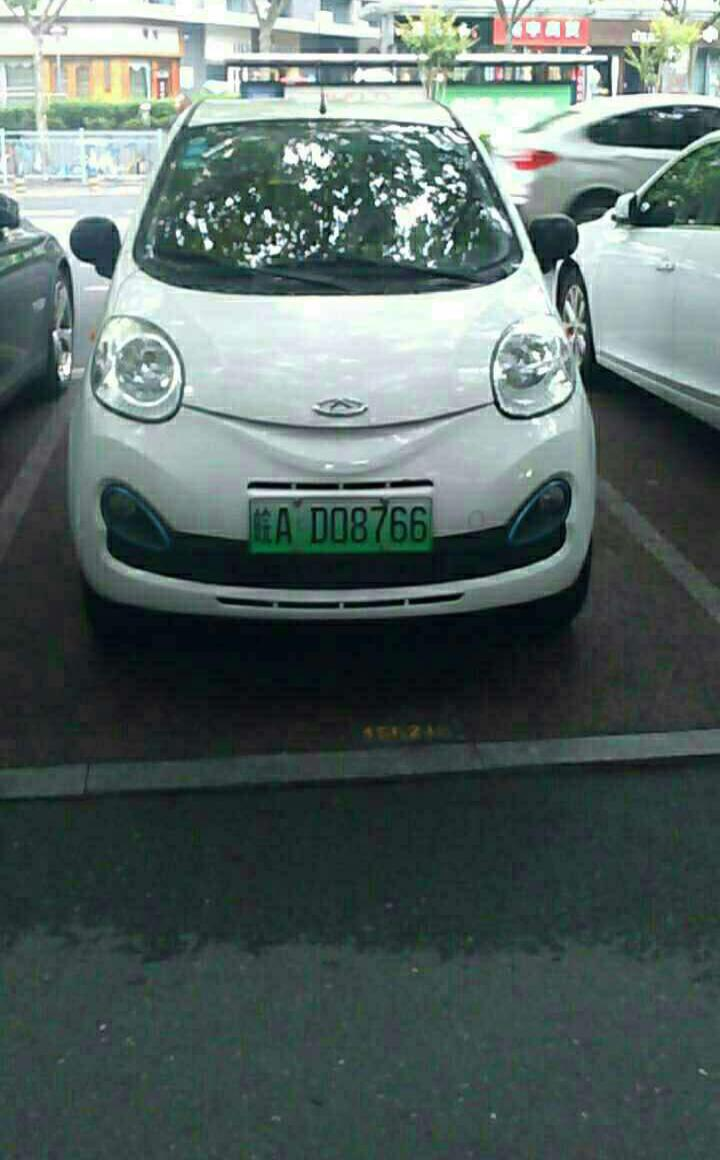car_green: (240, 489, 443, 561)
